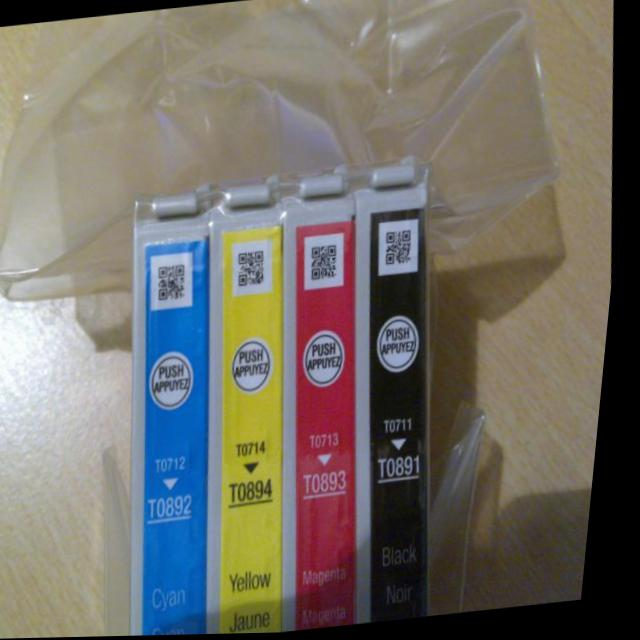qrcode: (162, 266, 193, 301), (242, 252, 272, 288), (314, 247, 344, 282), (390, 232, 419, 267)
